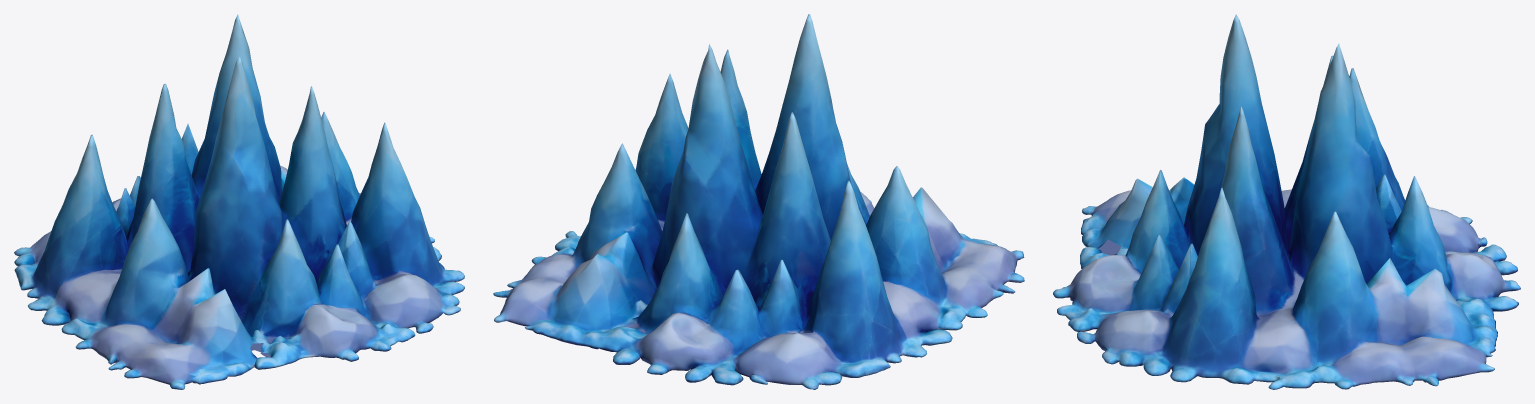
Rendered from Meshy_AI_Azure_Crystal_Peaks_0219192137_texture.fbx.
3 renders of one model, left to right at view 1: azimuth 30°, elevation 25°; view 2: azimuth 150°, elevation 25°; view 3: azimuth 270°, elevation 25°, orthographic. The views are drawn at different scales.
Parts seen in each view (by area): view 1: Mesh_0; view 2: Mesh_0; view 3: Mesh_0.
Part boxes in pixels (<box>): Mesh_0: <box>14,14,464,389</box>; Mesh_0: <box>493,14,1024,389</box>; Mesh_0: <box>1053,14,1520,389</box>.
Bounding box in the file's own units: 199 × 126 × 200.
Materials: 1 (1 with a texture image).
